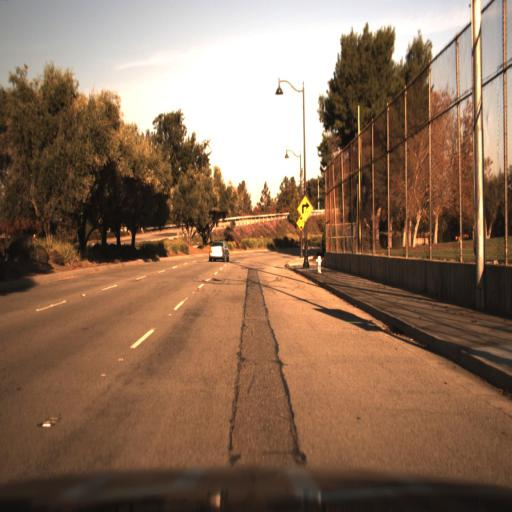car: (207, 237, 231, 265)
